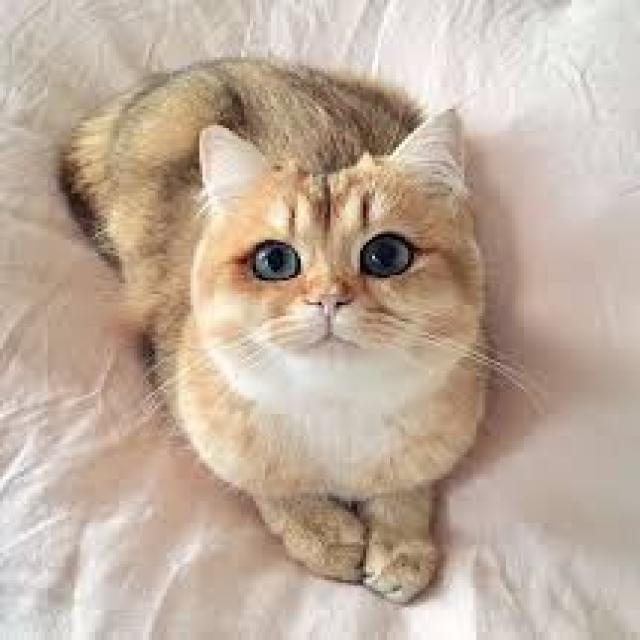cat: (63, 57, 488, 599)
